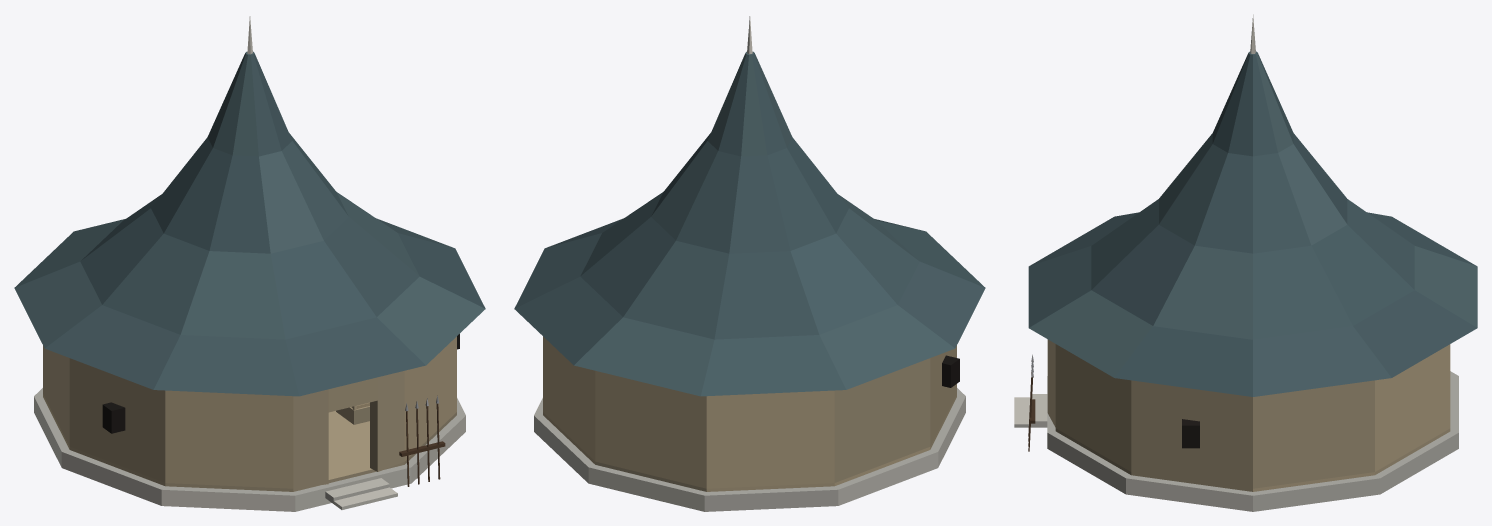
The model's file is walk_veiled_barracks.glb.
3 views of the same model, side by side, from view 1: azimuth 30°, elevation 25°; view 2: azimuth 150°, elevation 25°; view 3: azimuth 270°, elevation 25° (orthographic).
Visible parts, largest first — view 1: walk_veiled_barracks_roof, walk_veiled_barracks; view 2: walk_veiled_barracks_roof, walk_veiled_barracks; view 3: walk_veiled_barracks_roof, walk_veiled_barracks.
Part boxes in pixels (box(x1,y1,x2,y2)): walk_veiled_barracks_roof: box(14, 16, 485, 396); walk_veiled_barracks: box(34, 334, 465, 511); walk_veiled_barracks_roof: box(514, 16, 985, 396); walk_veiled_barracks: box(534, 336, 965, 511); walk_veiled_barracks_roof: box(1028, 14, 1477, 396); walk_veiled_barracks: box(1014, 339, 1458, 511).
Size of what is drawn, in the model's own units: 13.2 by 12.54 by 12.95.
Materials: 2 (2 with a texture image).
